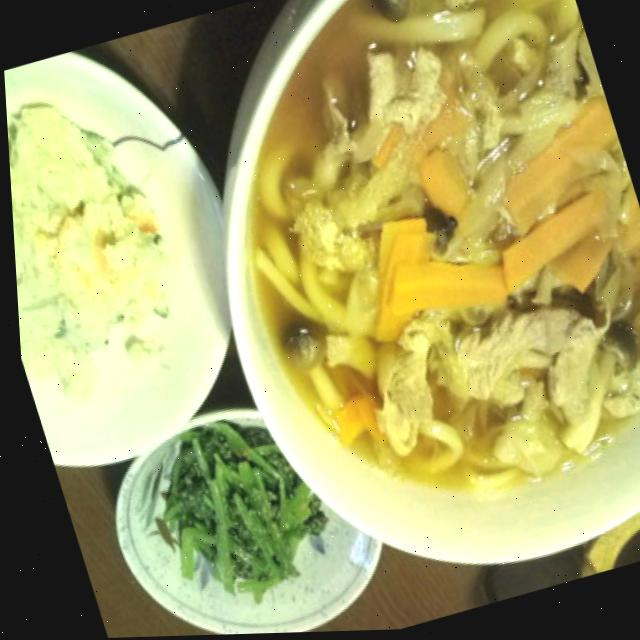蔬菜料理: (1, 20, 299, 492)
